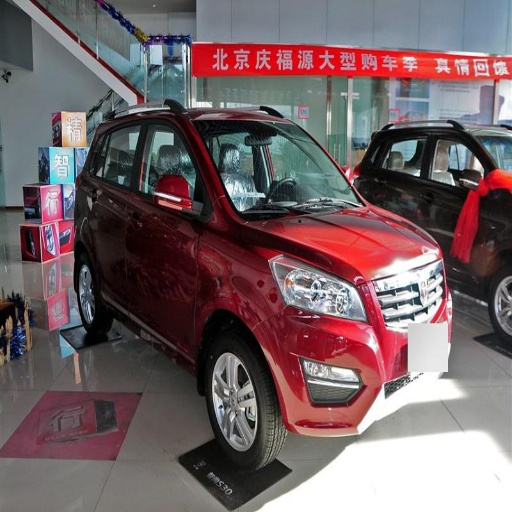back_right_door: (86, 118, 147, 307)
front_bumper: (261, 261, 436, 429)
front_right_door: (129, 116, 212, 343)
front_right_light: (270, 254, 367, 322)
